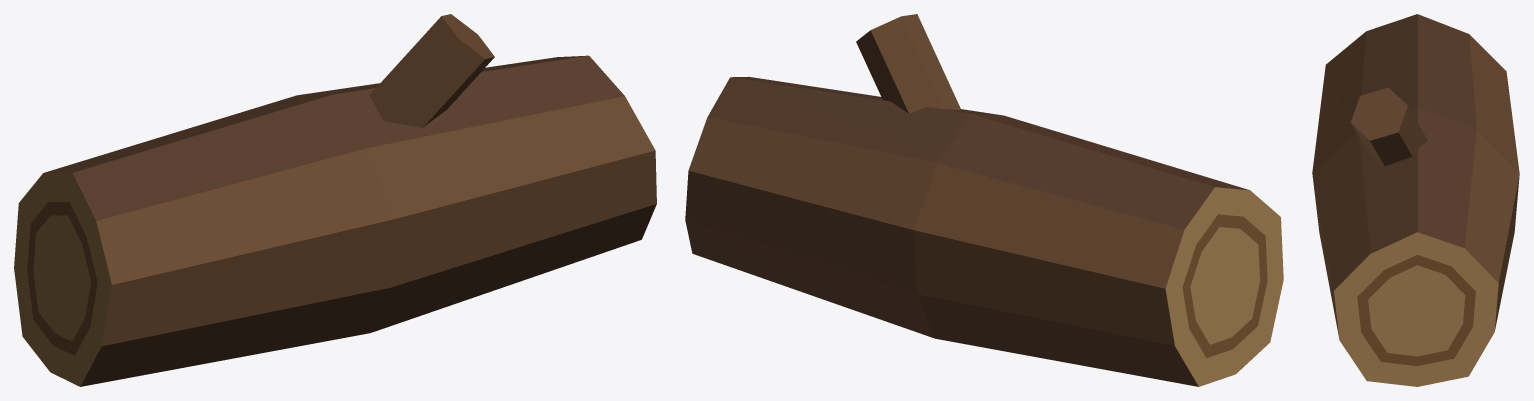
File: wood.glb
3 renders of one model, left to right at view 1: azimuth 30°, elevation 25°; view 2: azimuth 150°, elevation 25°; view 3: azimuth 270°, elevation 25°, orthographic. The views are drawn at different scales.
Parts seen in each view (by area): view 1: resource_wood_quality; view 2: resource_wood_quality; view 3: resource_wood_quality.
Boxes of the visible parts, x1,y1,x2,y2 form: resource_wood_quality: (14, 14, 656, 386); resource_wood_quality: (685, 14, 1283, 386); resource_wood_quality: (1312, 14, 1519, 386).
Size of the model in its own units: 0.9989 by 0.4928 by 0.3802.
